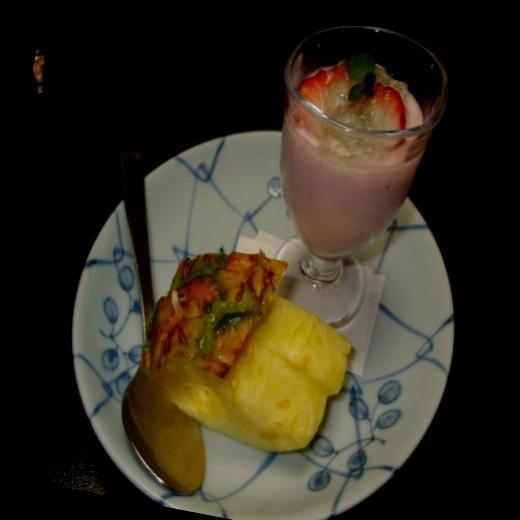Mango: (148, 238, 365, 404), (128, 308, 341, 460)
